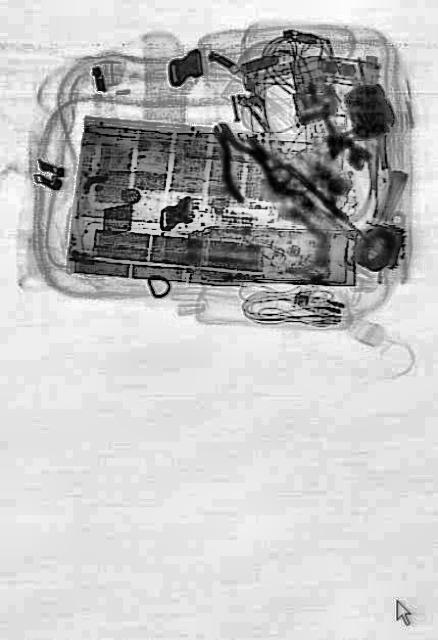Pliers: (200, 105, 270, 205)
